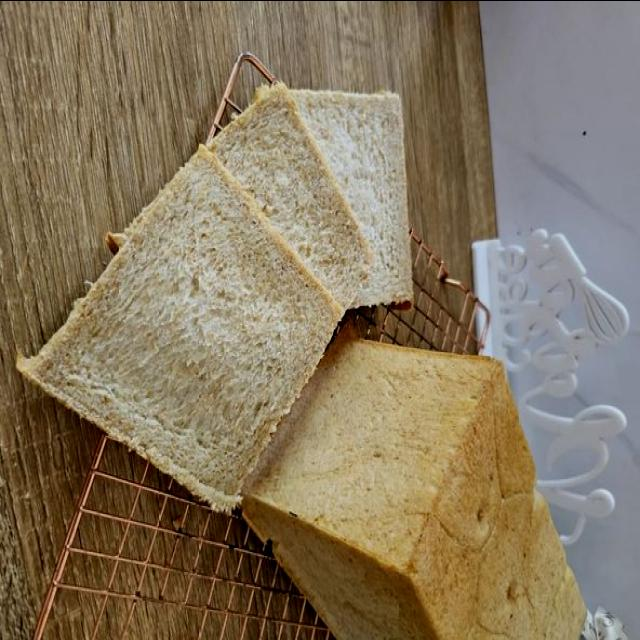roti tawar: (14, 135, 348, 510)
